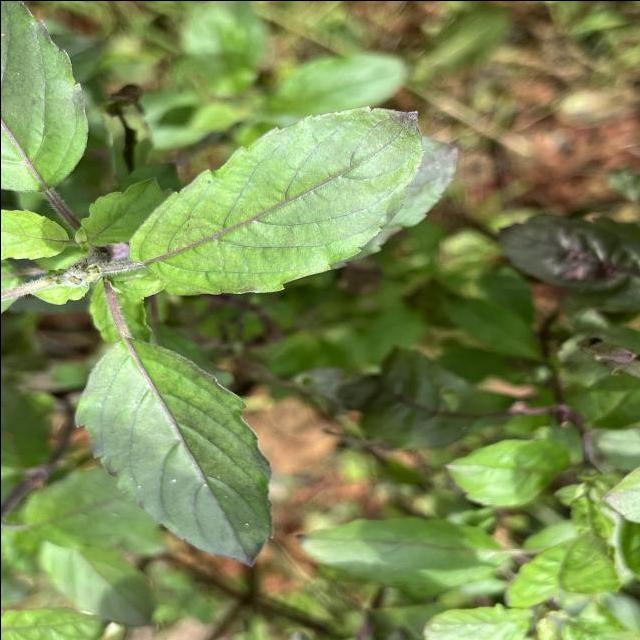Ocimum tenuiflorum: (128, 102, 427, 296), (71, 334, 279, 568)
